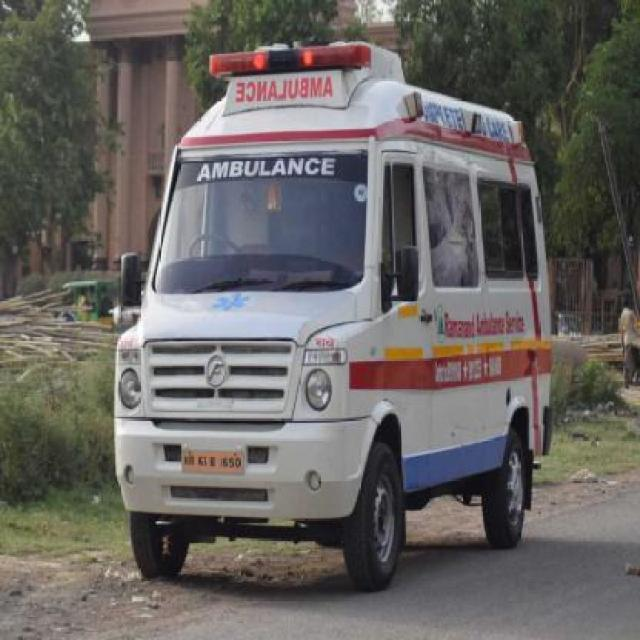Ambulance: (107, 37, 558, 594), (0, 446, 638, 638), (612, 294, 638, 394)
